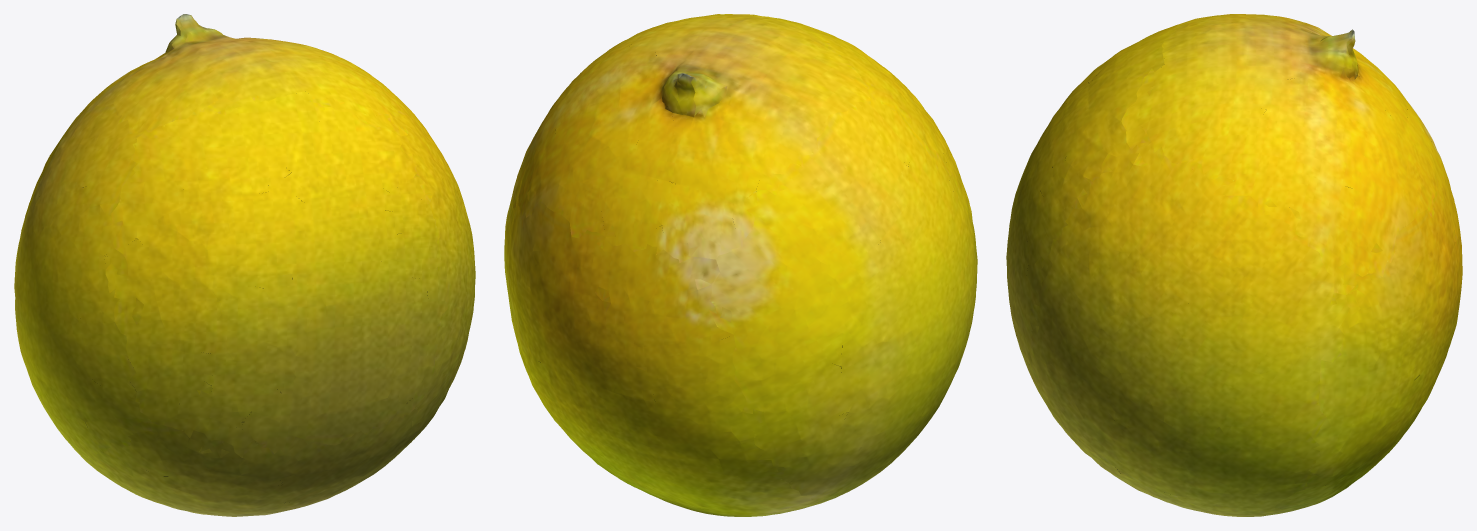
File: lime-yellow.glb
The picture shows the model from 3 angles, left to right: view 1: azimuth 30°, elevation 25°; view 2: azimuth 150°, elevation 25°; view 3: azimuth 270°, elevation 25°; orthographic projection. The views are drawn at different scales.
Parts seen in each view (by area): view 1: world; view 2: world; view 3: world.
Part boxes in pixels (left/top/right/bottom): world: left=14, top=14, right=475, bottom=516; world: left=504, top=14, right=977, bottom=516; world: left=1006, top=14, right=1462, bottom=516.
Size of the model in its own units: 0.8541 by 0.9007 by 0.8112.
Materials: 1 (1 with a texture image).
